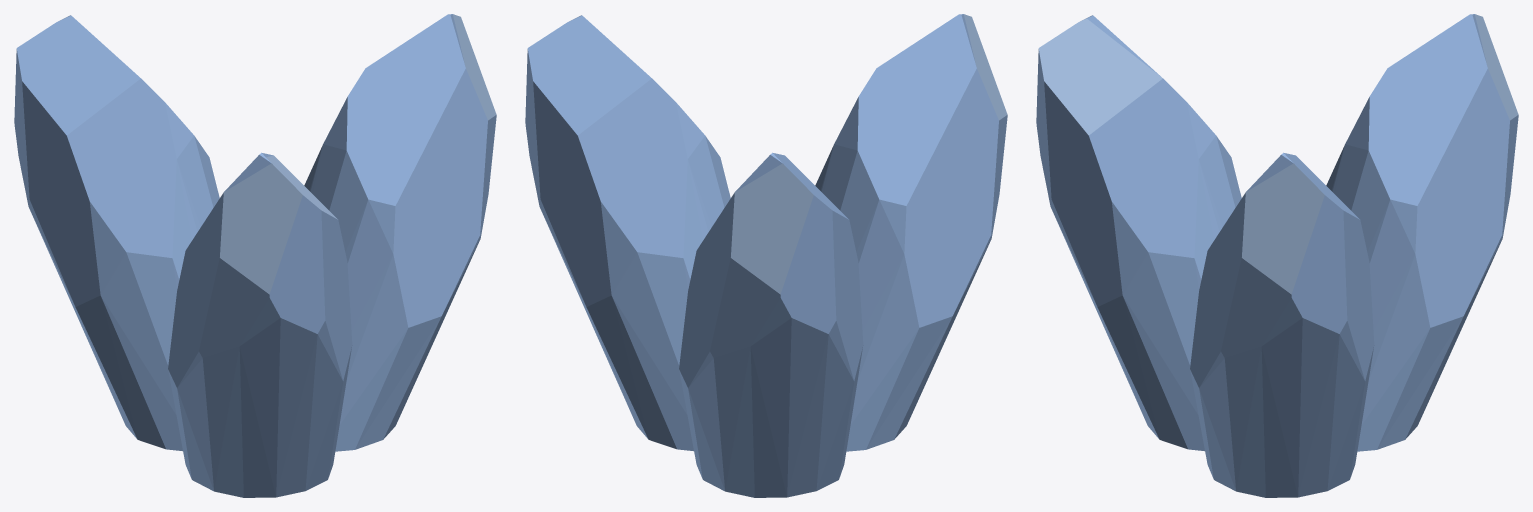
File: crystal_15.fbx
The picture shows the model from 3 angles, left to right: view 1: azimuth 30°, elevation 25°; view 2: azimuth 150°, elevation 25°; view 3: azimuth 270°, elevation 25°; orthographic projection.
Parts seen in each view (by area): view 1: crystal_15; view 2: crystal_15; view 3: crystal_15.
Part boxes in pixels (box(x1,y1,x2,y2)): crystal_15: box(14, 14, 496, 497); crystal_15: box(525, 14, 1007, 497); crystal_15: box(1036, 14, 1518, 497).
Size of the model in its own units: 78.24 by 71.9 by 83.61.
